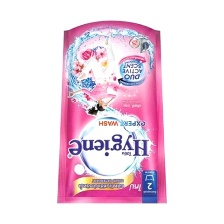book: (54, 18, 170, 207)
